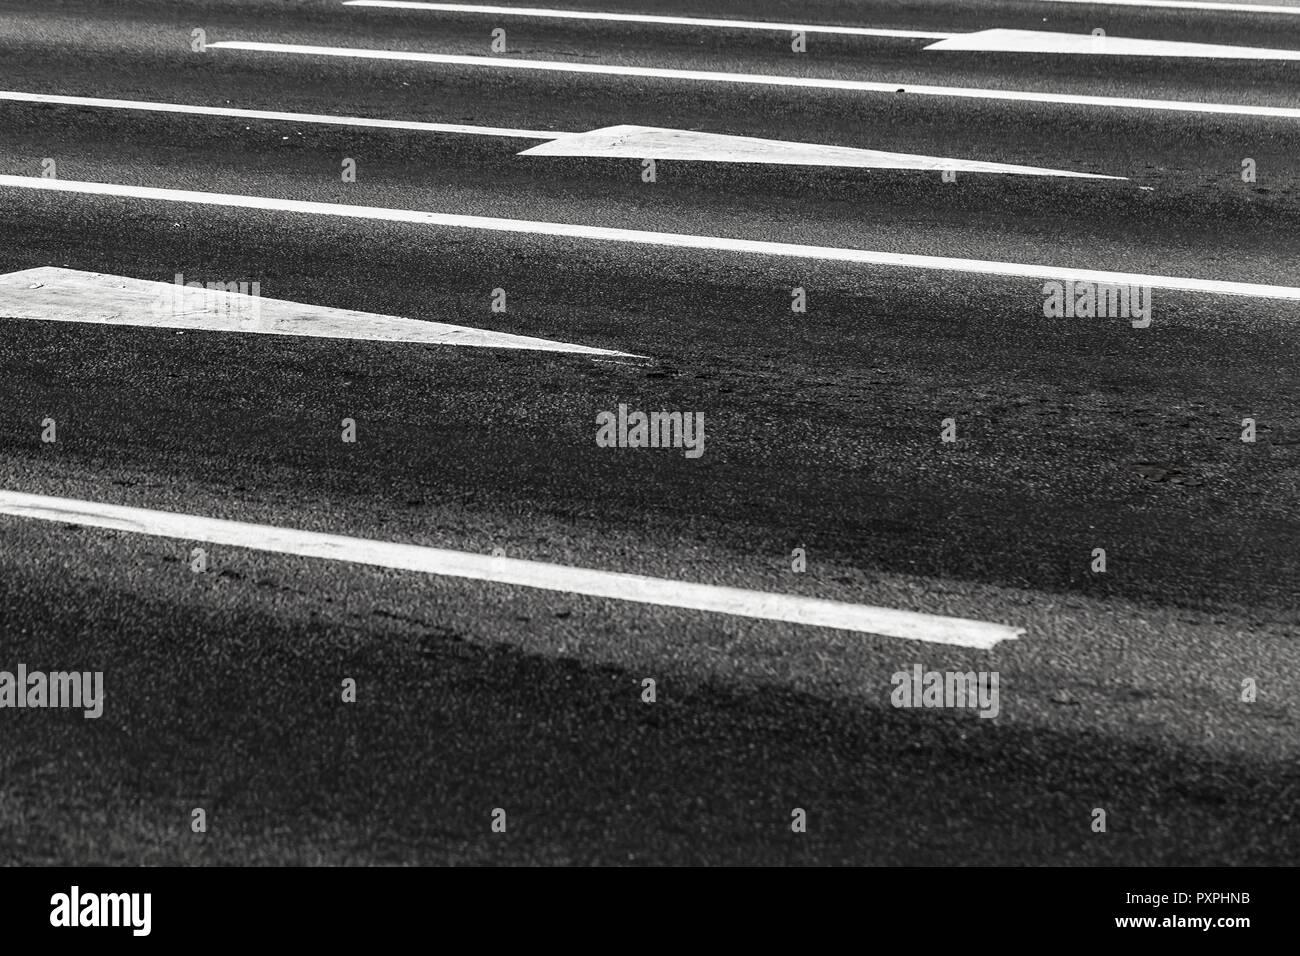faded_road_lines: (0, 174, 1299, 302), (0, 490, 1024, 649), (0, 90, 1128, 181), (204, 40, 1299, 120), (0, 267, 648, 362), (346, 0, 1299, 62)
